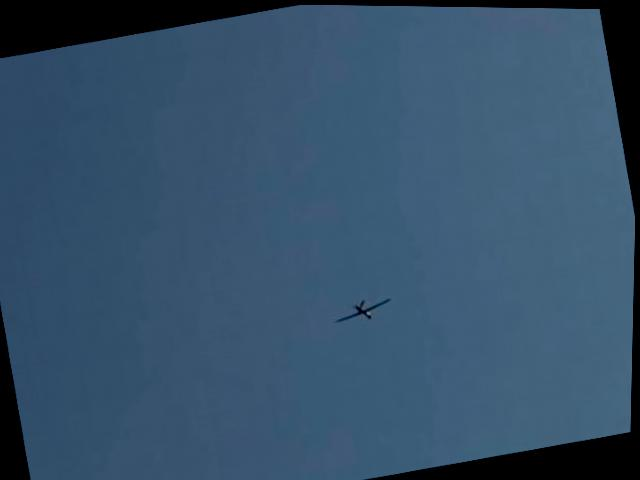uav: (329, 278, 403, 339)
